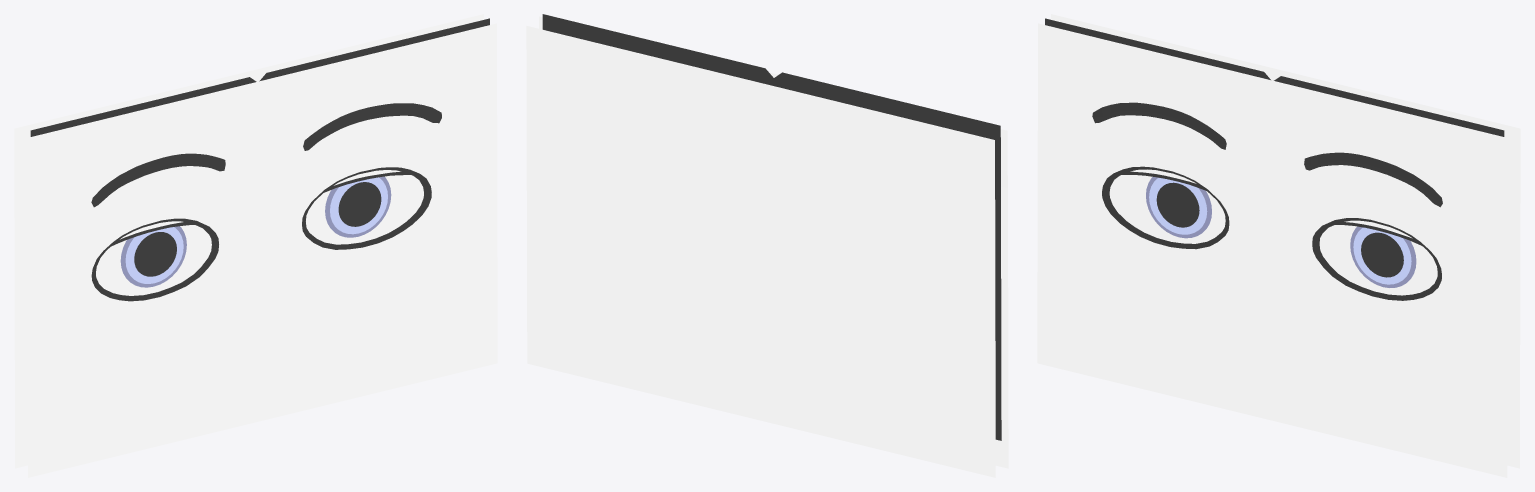
Rendered from Baxter.glb.
3 views of the same model, side by side, from view 1: azimuth 30°, elevation 25°; view 2: azimuth 150°, elevation 25°; view 3: azimuth 330°, elevation 25° (orthographic).
Visible parts, largest first — view 1: L_Skin, R_Skin, Scelera, L_Skin_Line, R_Skin_Line, L_BROW, R_Brow, R_Pupil, L_Pupil, R_Iris, L_Iris, R_Iris_Line (+1 smaller); view 2: Scelera, R_Skin_Line, L_Skin_Line, R_Skin; view 3: L_Skin, R_Skin, Scelera, L_Skin_Line, R_Skin_Line, L_BROW, R_Brow, L_Pupil, R_Pupil, R_Iris, L_Iris, L_Iris_Line (+1 smaller).
Boxes of the visible parts, bbox=[...] form: L_Skin: bbox=[257, 23, 497, 421]; R_Skin: bbox=[27, 81, 262, 477]; Scelera: bbox=[14, 14, 483, 468]; L_Skin_Line: bbox=[259, 18, 489, 249]; R_Skin_Line: bbox=[30, 77, 256, 301]; L_BROW: bbox=[303, 103, 441, 150]; R_Brow: bbox=[91, 153, 225, 207]; R_Pupil: bbox=[134, 232, 176, 276]; L_Pupil: bbox=[338, 182, 381, 226]; R_Iris: bbox=[125, 227, 183, 283]; L_Iris: bbox=[330, 177, 387, 234]; R_Iris_Line: bbox=[120, 226, 186, 287]; Scelera: bbox=[526, 26, 995, 477]; R_Skin_Line: bbox=[771, 72, 1001, 440]; L_Skin_Line: bbox=[542, 14, 776, 86]; R_Skin: bbox=[773, 73, 1008, 468]; L_Skin: bbox=[1267, 80, 1507, 477]; R_Skin: bbox=[1037, 23, 1272, 419]; Scelera: bbox=[1051, 14, 1520, 468]; L_Skin_Line: bbox=[1274, 76, 1504, 300]; R_Skin_Line: bbox=[1045, 18, 1270, 249]; L_BROW: bbox=[1304, 152, 1442, 207]; R_Brow: bbox=[1092, 102, 1226, 149]; L_Pupil: bbox=[1361, 232, 1403, 277]; R_Pupil: bbox=[1156, 182, 1199, 227]; R_Iris: bbox=[1149, 178, 1207, 234]; L_Iris: bbox=[1353, 227, 1411, 284]; L_Iris_Line: bbox=[1350, 226, 1416, 287].
Size of the model in its own units: 7.3 by 5.11 by 0.4904.
